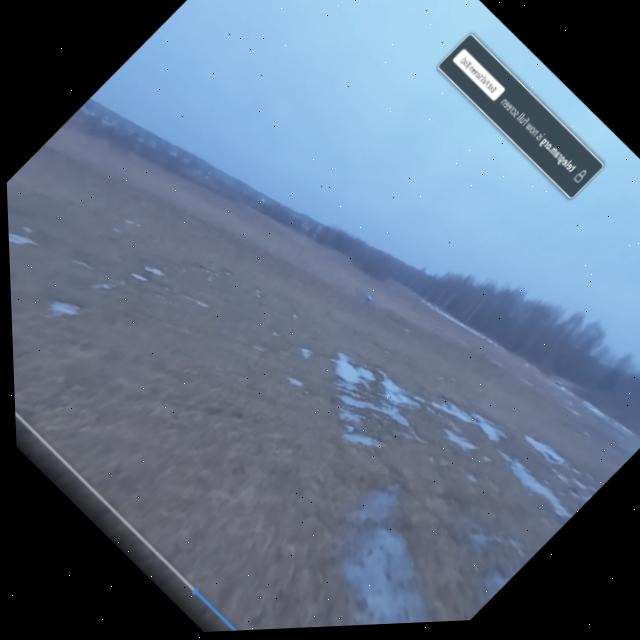planedrone: (347, 278, 380, 312)
